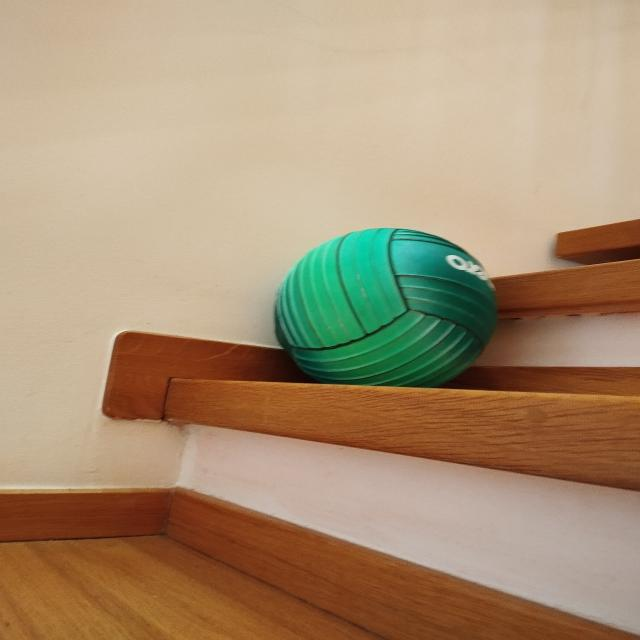zielona: (274, 228, 497, 388)
